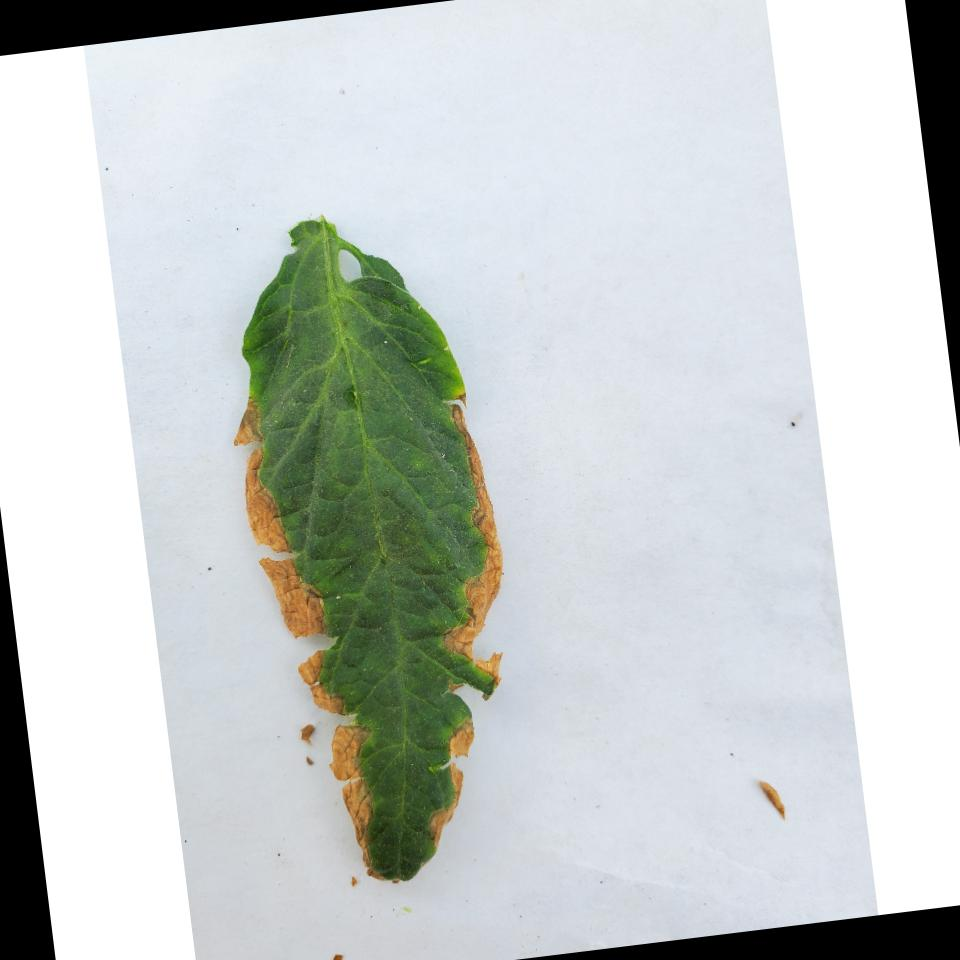tomato_bacterial_blight: (194, 171, 578, 913)
